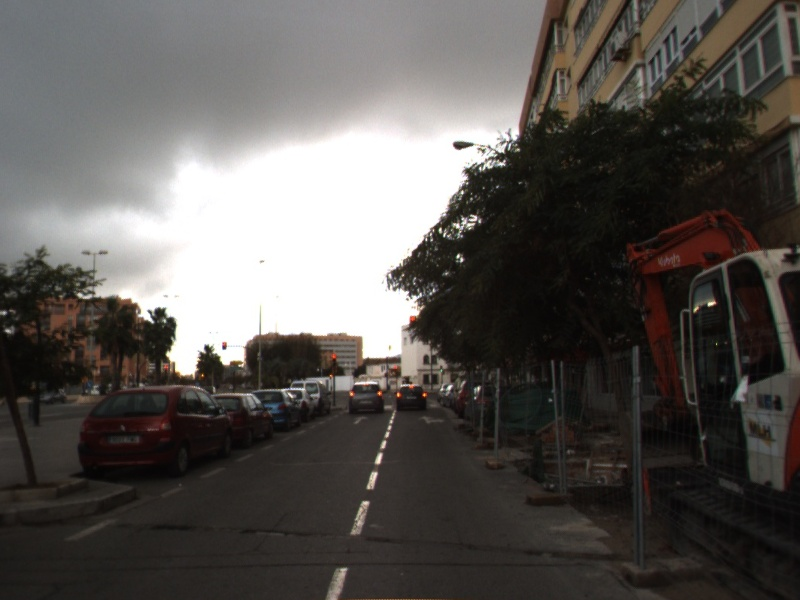STRAIGHT: (351, 414, 371, 426)
STRAIGHT_RIGHT: (417, 414, 448, 426)
